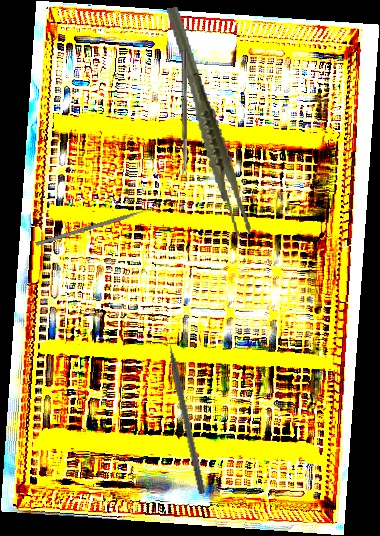Pusher: (162, 324, 208, 495), (35, 203, 163, 247)
Surgical Spoon: (181, 50, 187, 177)
Tissue Forceps: (164, 1, 253, 242)
